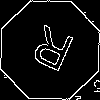R: (25, 25, 77, 81)
